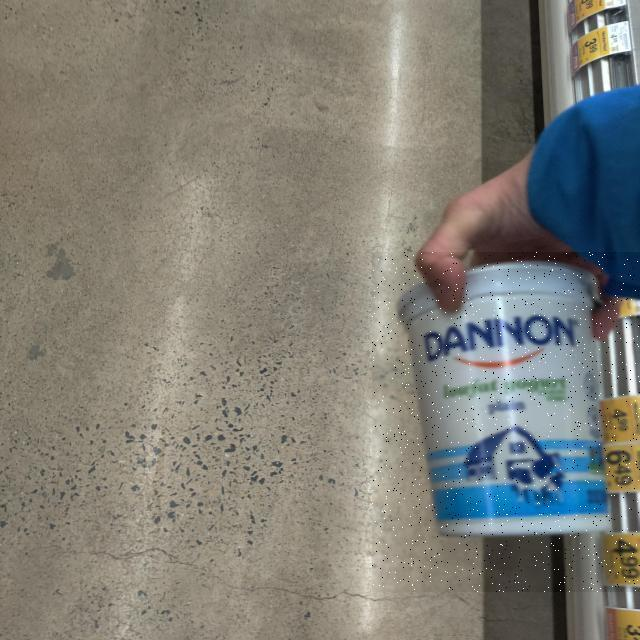Yoghurt: (372, 252, 640, 592)
